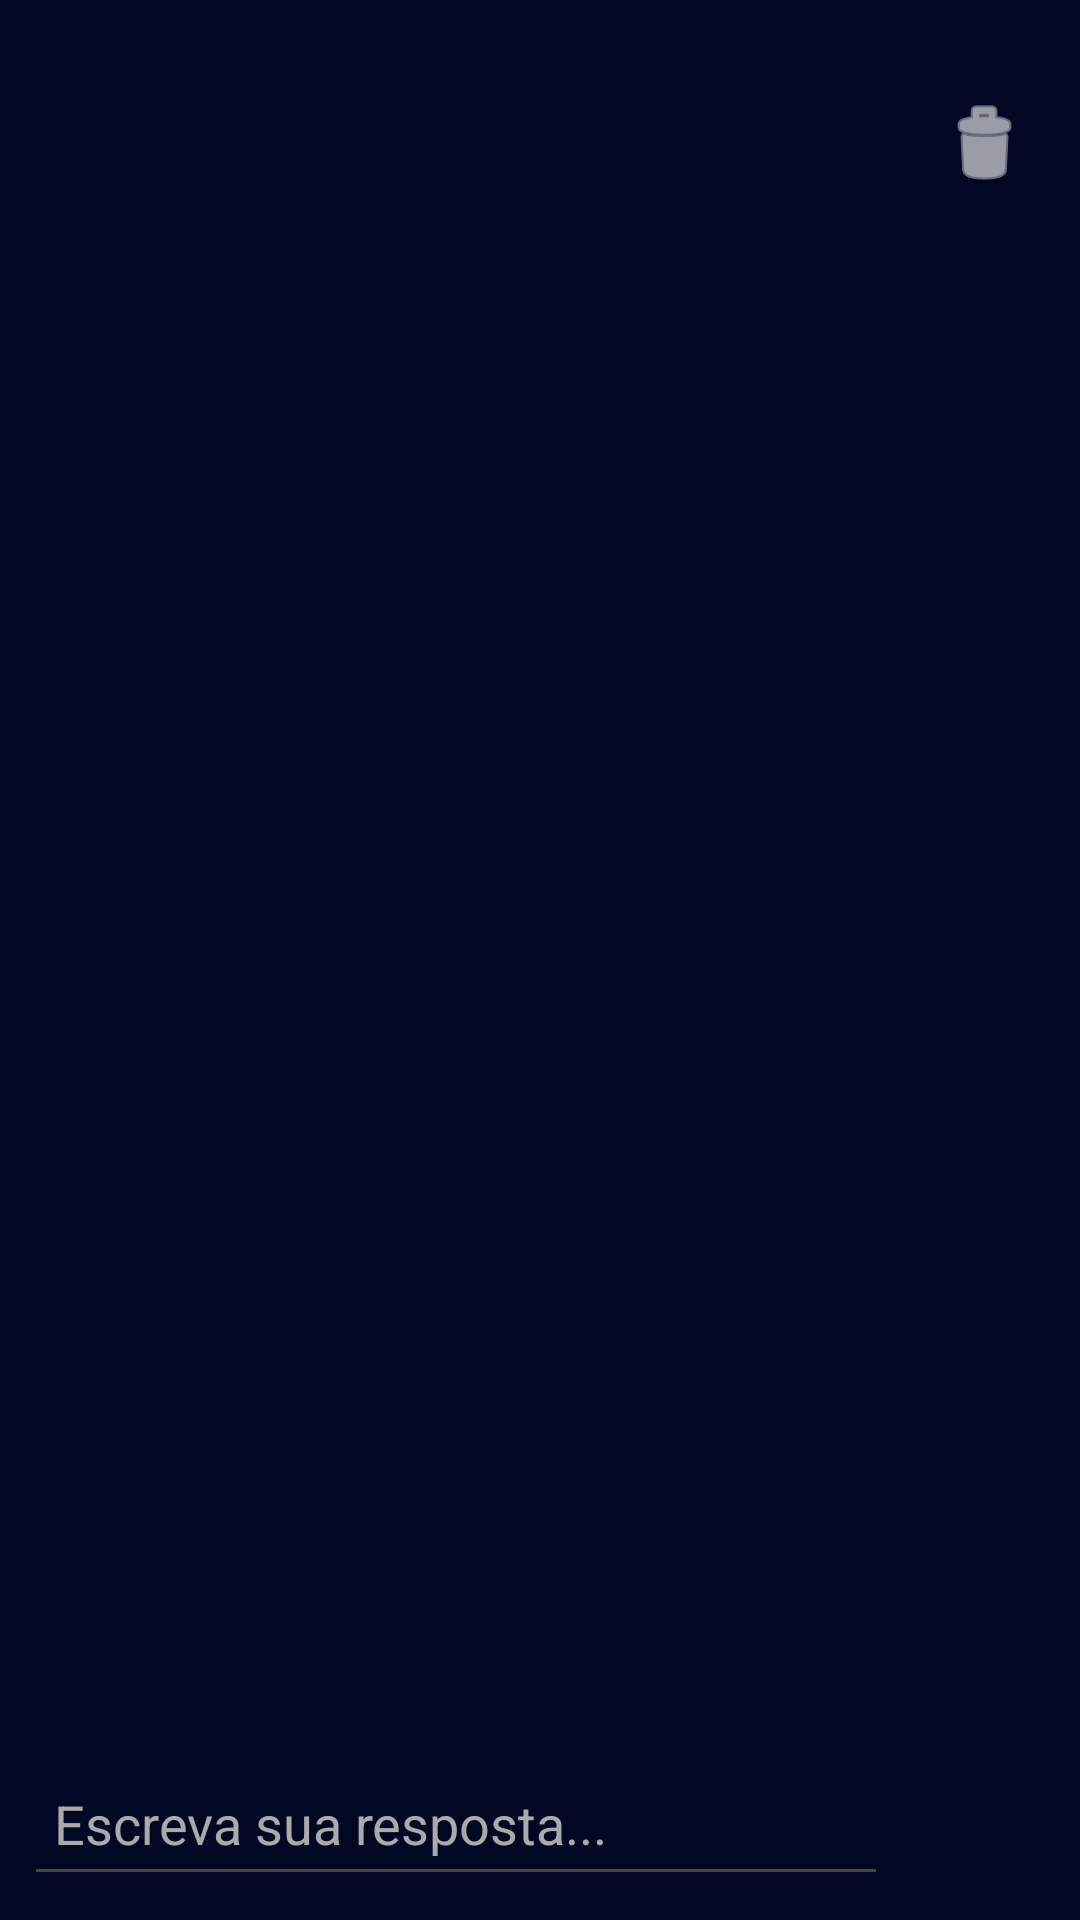

Icons on this 1080px×1920px Android screen, each with the point to tap as (x=x, y=y):
Excluir Postagem: (x=984, y=142)
